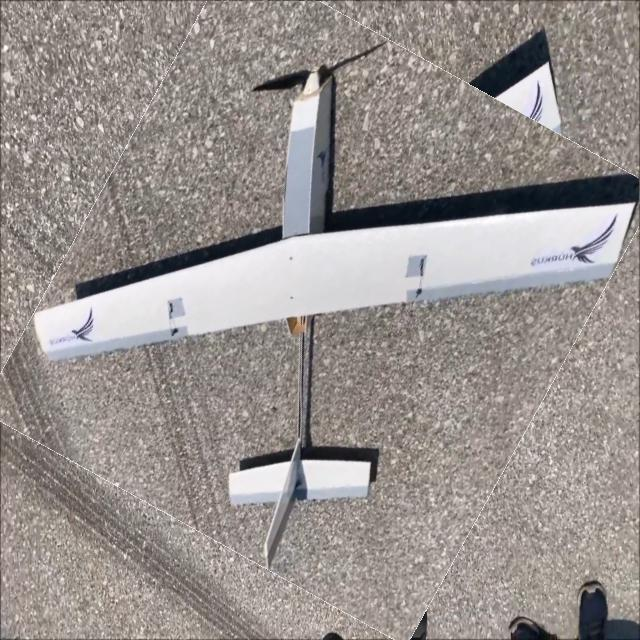Airplane: (33, 30, 632, 559)
